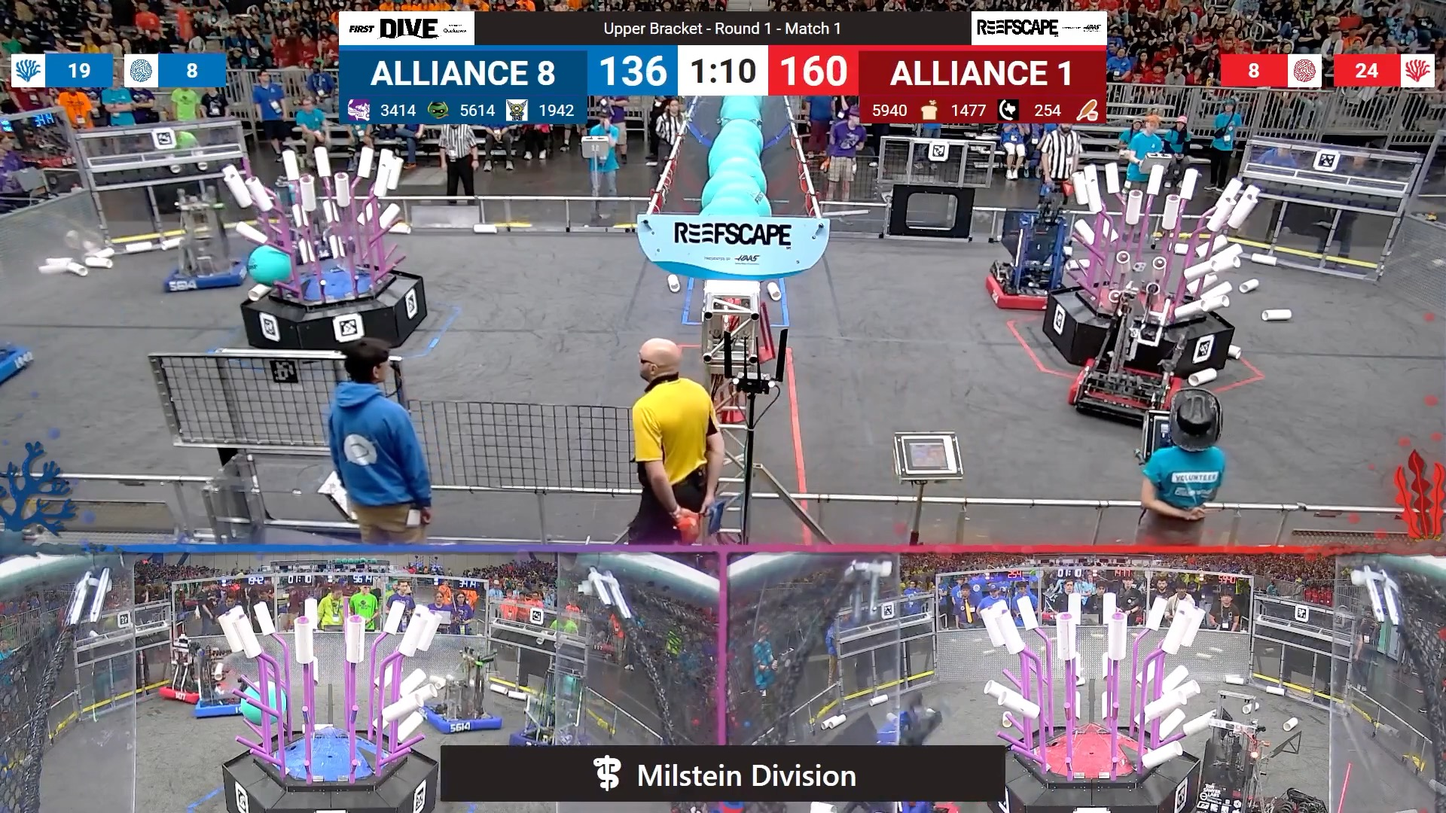bumpers: (1060, 360, 1183, 424), (156, 255, 262, 296), (411, 699, 506, 737), (980, 272, 1064, 314), (0, 339, 40, 395), (190, 696, 264, 724), (163, 681, 232, 701)
